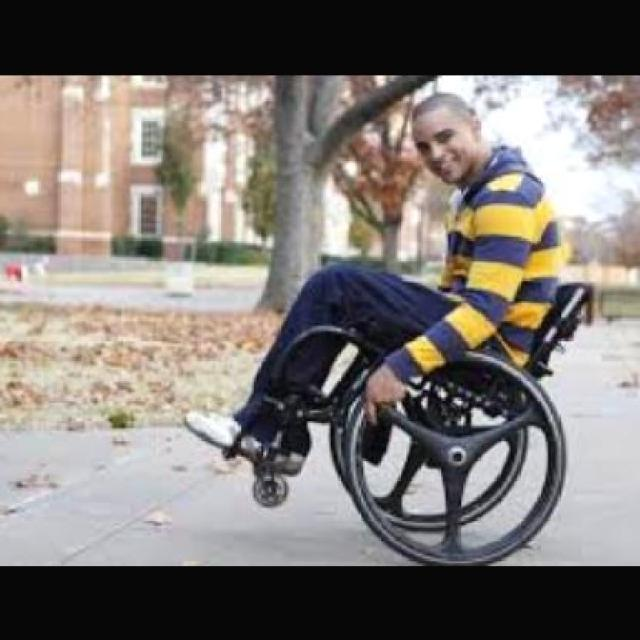wheelchairs: (266, 283, 592, 563)
